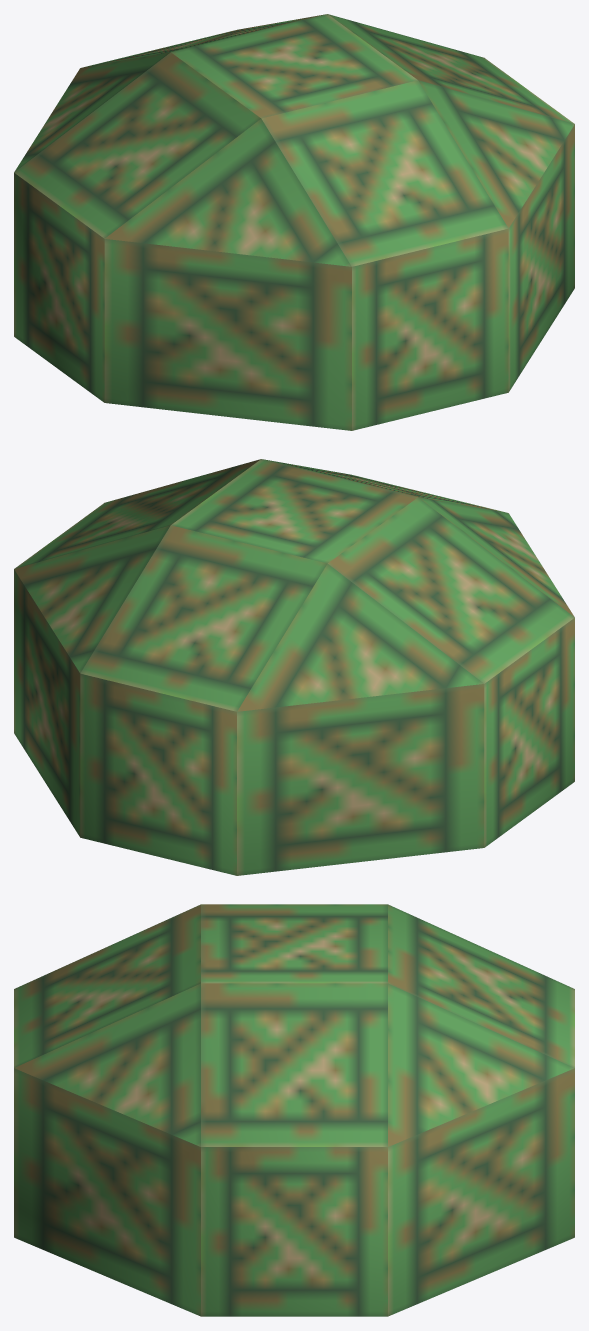
Rendered from octagon-domed-48x24x48.obj.
3 views of the same model, one above another, from view 1: azimuth 30°, elevation 25°; view 2: azimuth 150°, elevation 25°; view 3: azimuth 270°, elevation 25° (orthographic). The views are drawn at different scales.
Visible parts, largest first — view 1: Default; view 2: Default; view 3: Default.
Boxes of the visible parts, left/top/right/bottom form: Default: left=14, top=14, right=574, bottom=430; Default: left=14, top=459, right=574, bottom=875; Default: left=14, top=904, right=574, bottom=1316.
Bounding box in the file's own units: 3 × 1.5 × 3.
